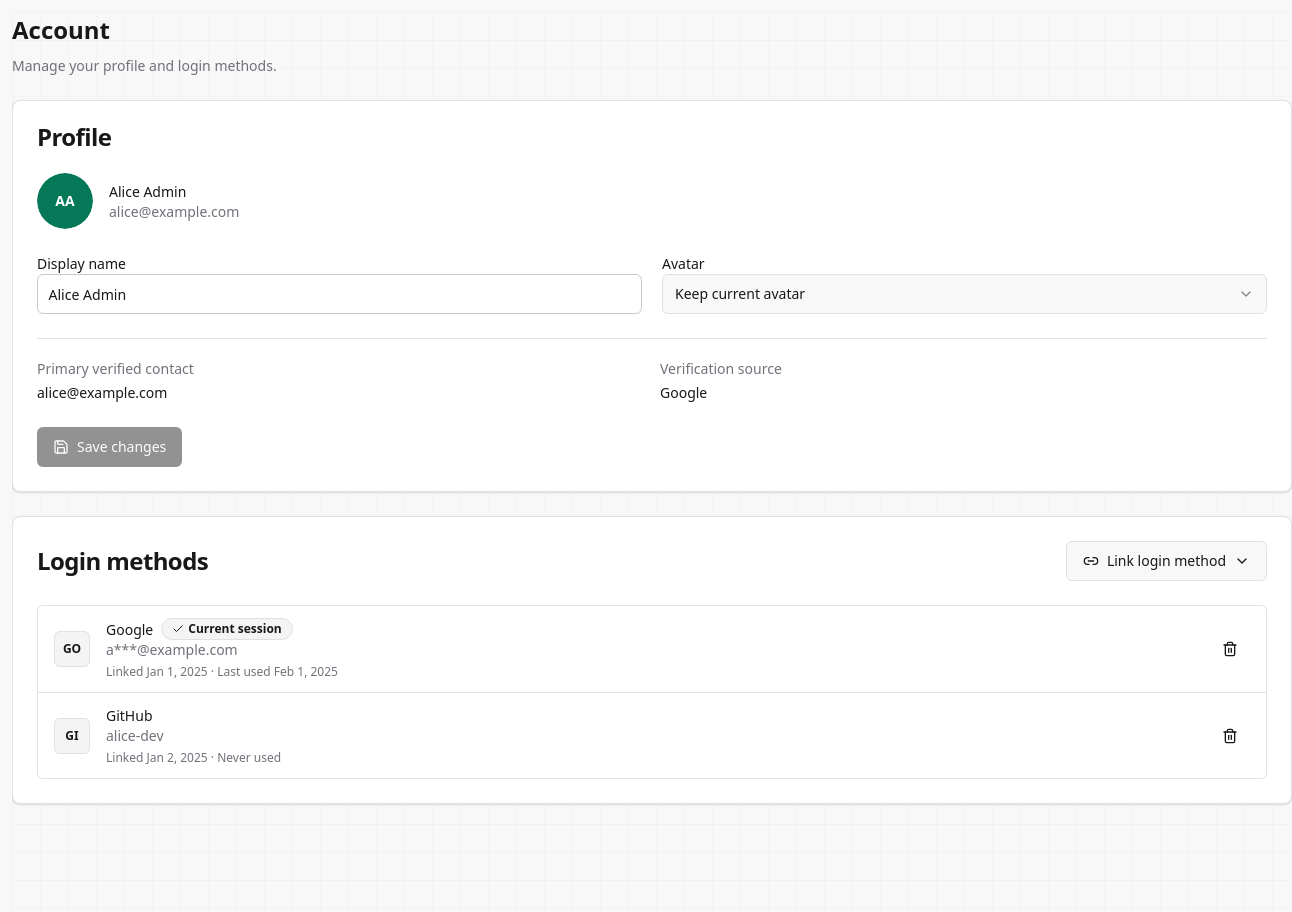
AccountView › updates mutable profile fields without an App revision
Replace the text in the field labelled "Display name" with "Alice Updated" at (340, 294), box [37, 274, 642, 314]
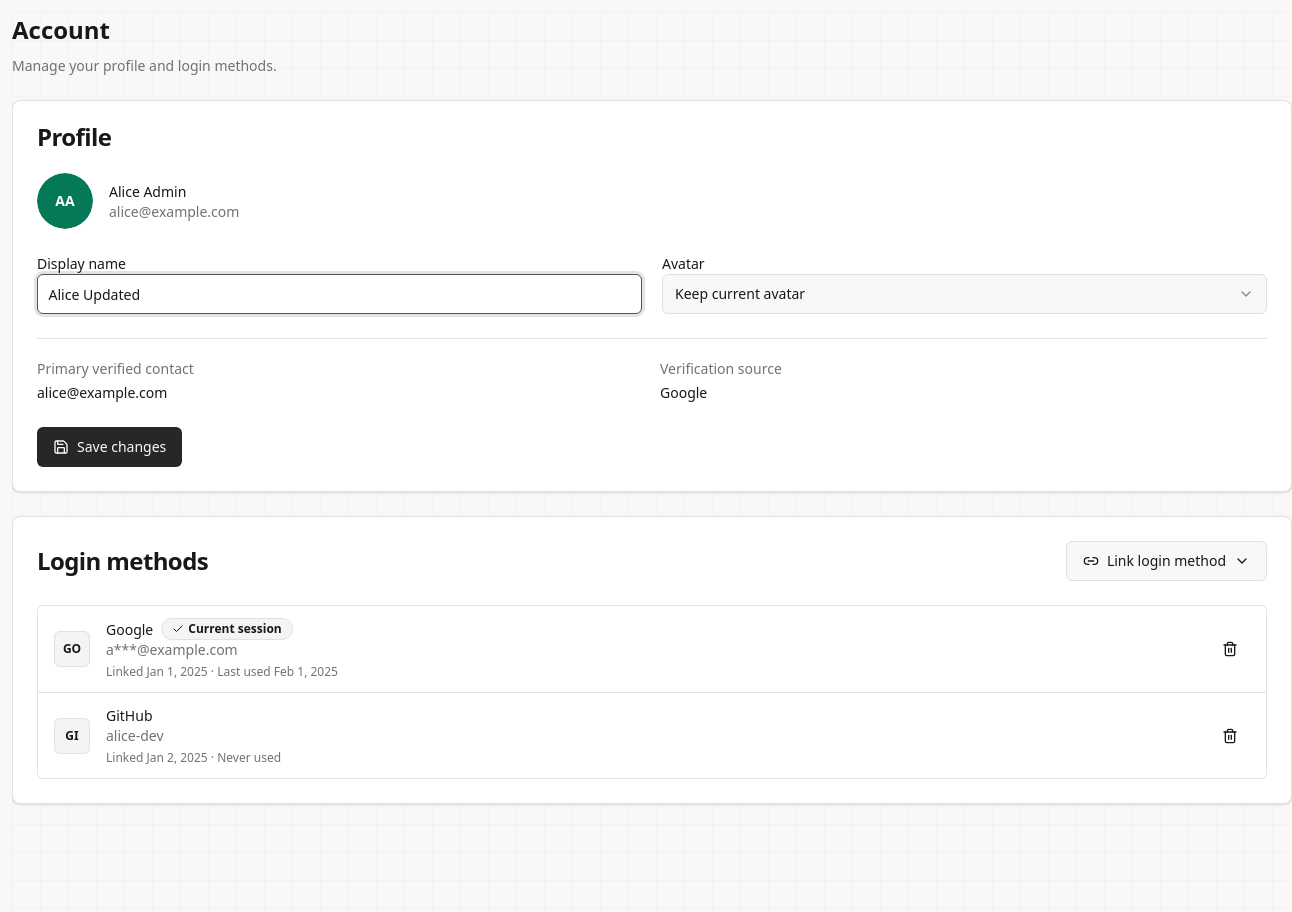
Click the button "Save changes" at (110, 447), box [37, 427, 182, 467]
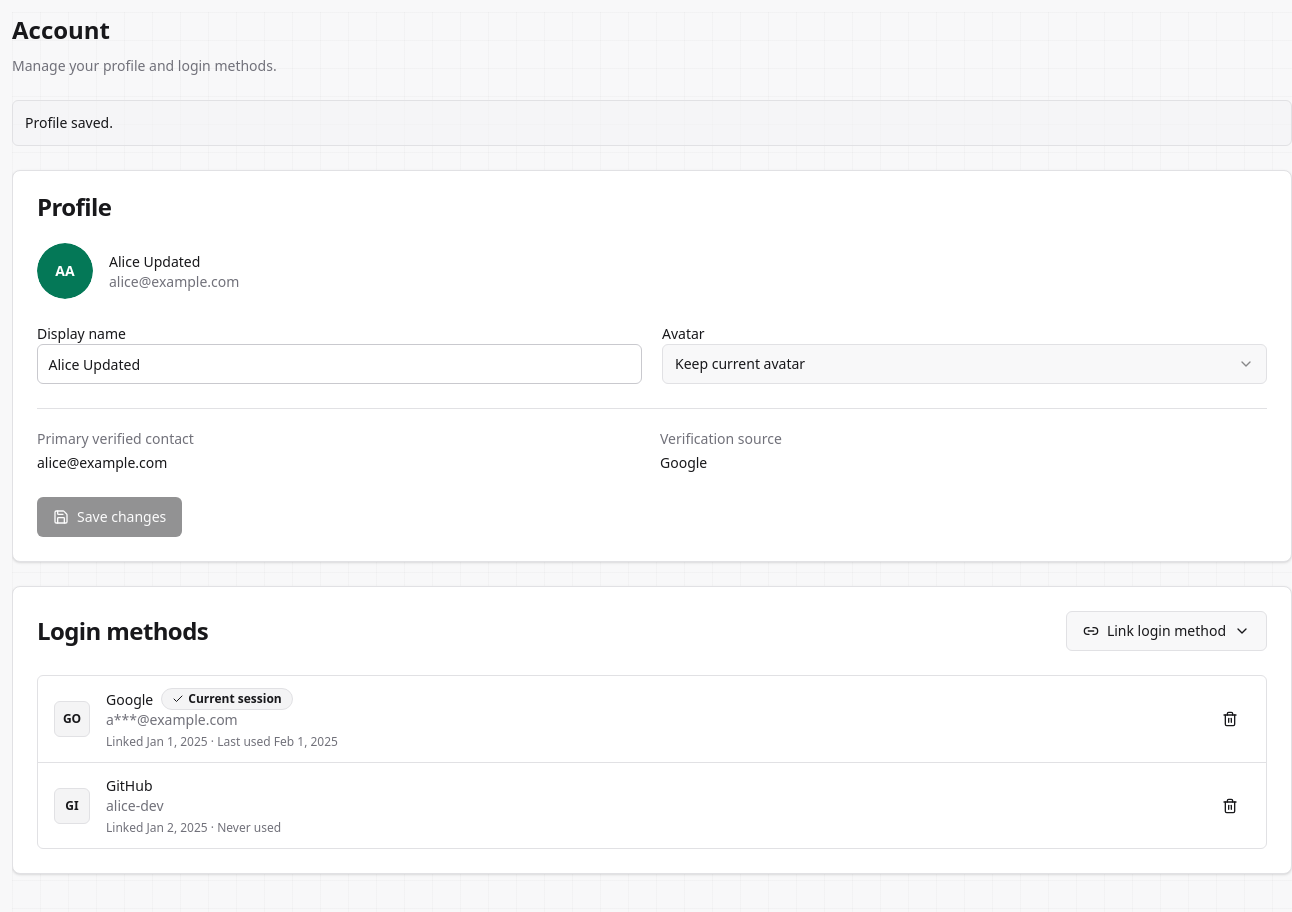
Now the message reads "Profile saved.", box [25, 113, 113, 132]
